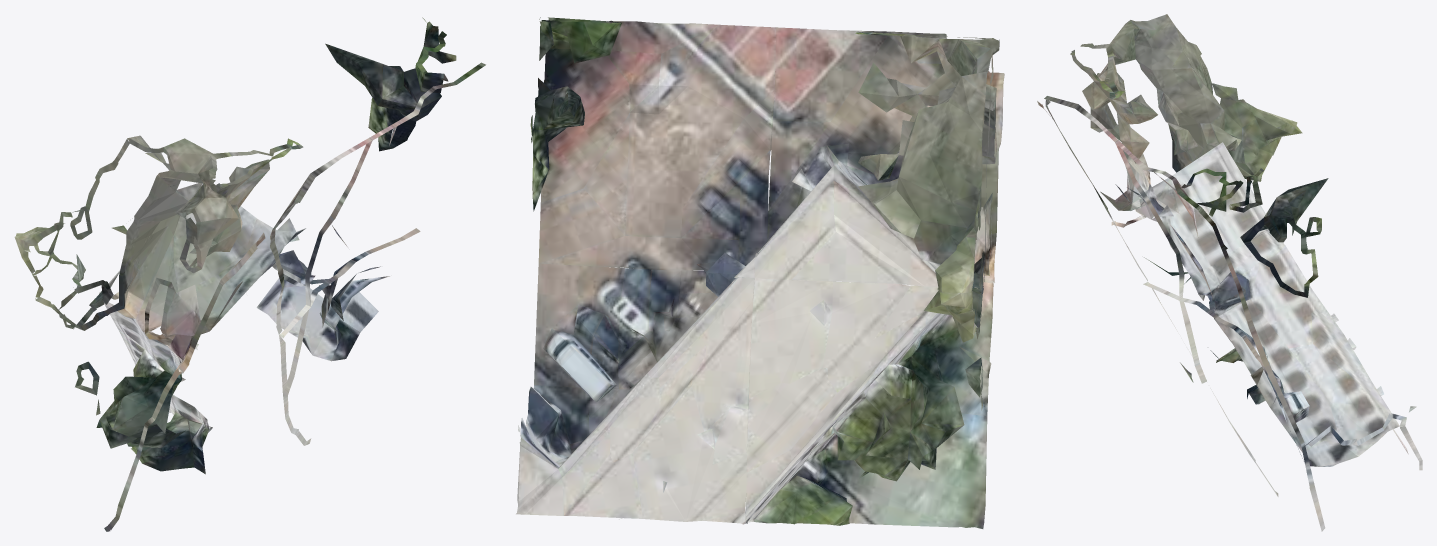
Rendered from AJVsH2ywWJIBuk8oEPK1UaA1CqeaVPXjxplTIs_jXce4BZwM6XHnuLkshSTippyMfjUGr7H4Hg6eSRSnUxFXJUYmeH1QUZGm7ARogdJO5wvUqKtAo7EhDKjeeGhVrUBnIiNLcf-HKsHDS6_RyKEcU8FWp1vC.glb.
The picture shows the model from 3 angles, left to right: view 1: azimuth 30°, elevation 25°; view 2: azimuth 150°, elevation 25°; view 3: azimuth 270°, elevation 25°; orthographic projection. The views are drawn at different scales.
Size of the model in its own units: 42.06 by 39.59 by 36.8.
1 material, 1 textured.
